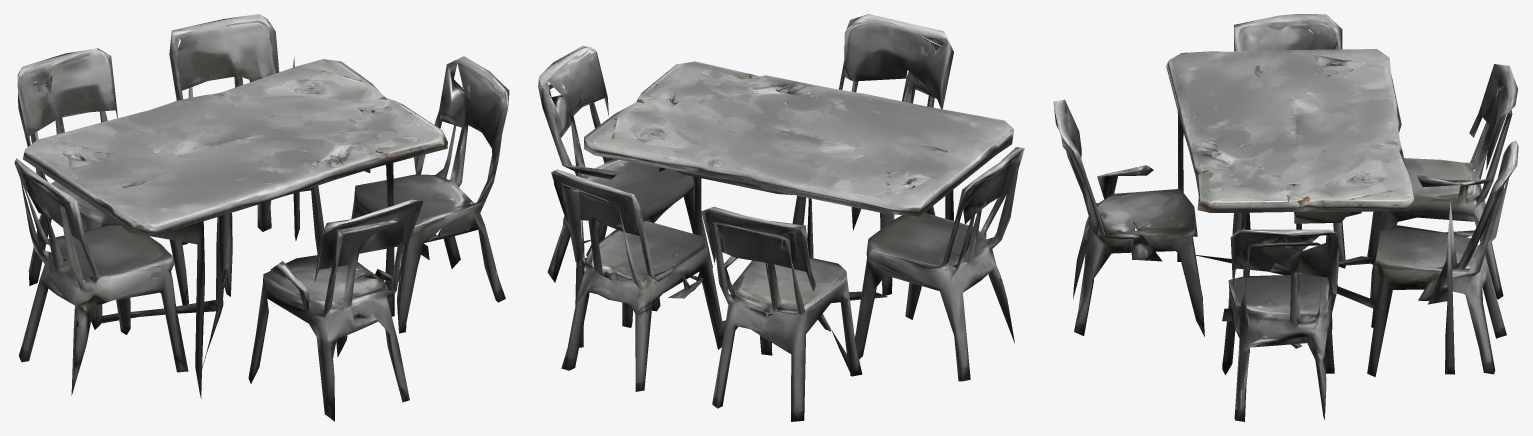
File: sn_table.glb
The picture shows the model from 3 angles, left to right: view 1: azimuth 30°, elevation 25°; view 2: azimuth 150°, elevation 25°; view 3: azimuth 270°, elevation 25°; orthographic projection. The views are drawn at different scales.
Visible parts, largest first — view 1: tripo_node_780e4435-cb77-4284-854d-2a515536540e; view 2: tripo_node_780e4435-cb77-4284-854d-2a515536540e; view 3: tripo_node_780e4435-cb77-4284-854d-2a515536540e.
Boxes of the visible parts, x1,y1,x2,y2 form: tripo_node_780e4435-cb77-4284-854d-2a515536540e: (14,14,509,421); tripo_node_780e4435-cb77-4284-854d-2a515536540e: (538,14,1024,421); tripo_node_780e4435-cb77-4284-854d-2a515536540e: (1053,14,1518,421).
Size of the model in its own units: 1 by 0.4517 by 0.9228.
Materials: 1 (1 with a texture image).
